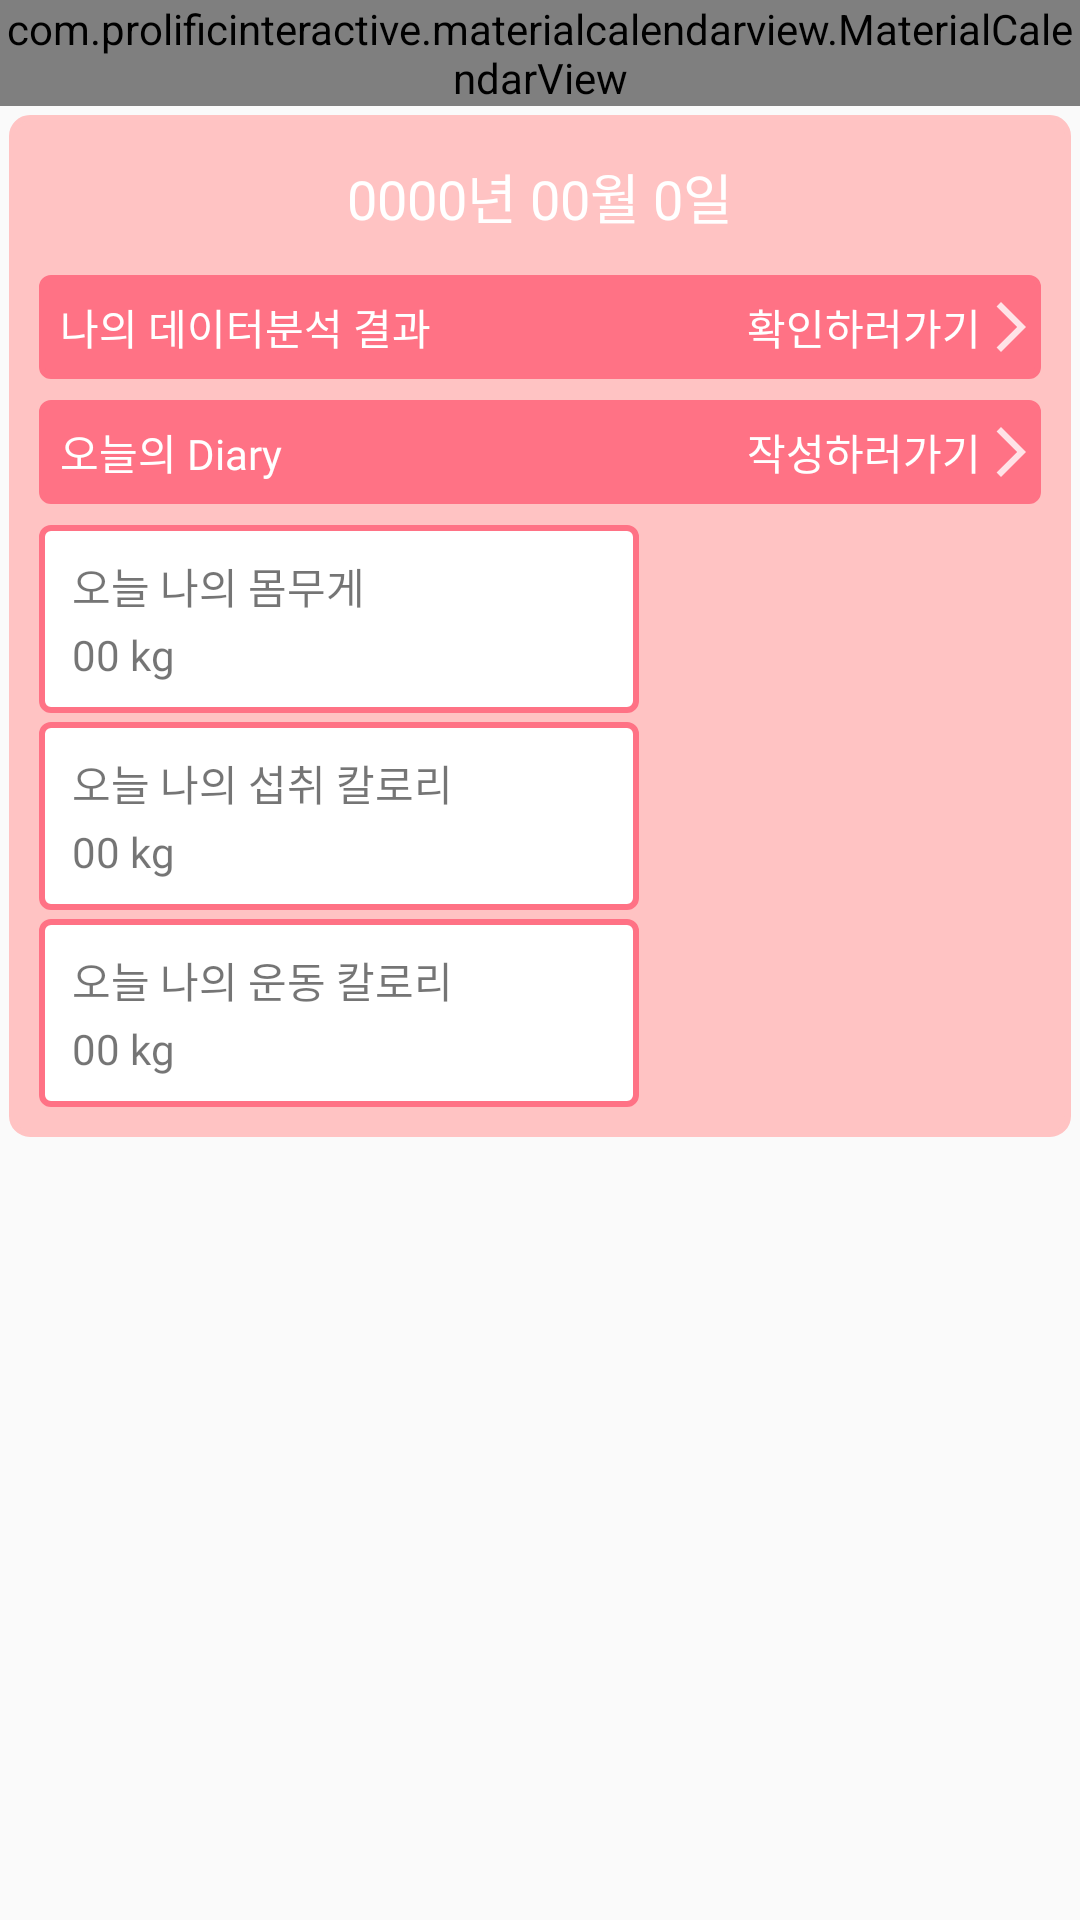

Screen size 1080 x 1920. Icon name, then its center in pixels as (x=x, y=y):
arrow forward: (x=1011, y=327), (x=1011, y=452)
